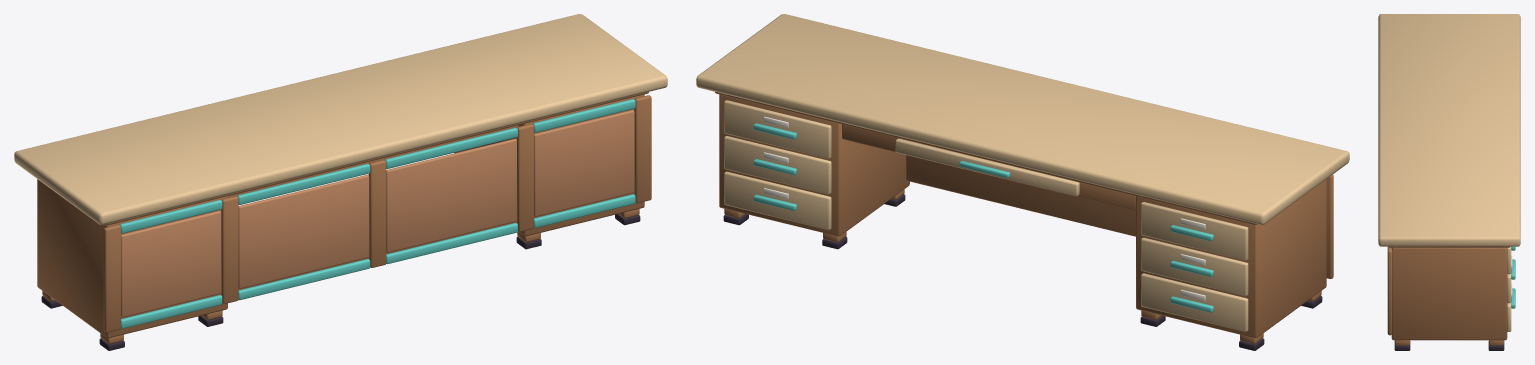
File: teacher-desk.glb
The picture shows the model from 3 angles, left to right: view 1: azimuth 30°, elevation 25°; view 2: azimuth 150°, elevation 25°; view 3: azimuth 270°, elevation 25°; orthographic projection. The views are drawn at different scales.
Visible parts, largest first — view 1: FurnTeacherDesk_TopDrawers, FurnTeacherDesk_FrontPanels, FurnTeacherDesk_Frame, FurnTeacherDesk_TurquoiseTrim, FurnTeacherDesk_Glides; view 2: FurnTeacherDesk_TopDrawers, FurnTeacherDesk_Frame, FurnTeacherDesk_TurquoiseTrim, FurnTeacherDesk_Glides, FurnTeacherDesk_Labels; view 3: FurnTeacherDesk_TopDrawers, FurnTeacherDesk_Frame, FurnTeacherDesk_Glides, FurnTeacherDesk_TurquoiseTrim.
Part boxes in pixels (x1,y1,x2,y2): FurnTeacherDesk_TopDrawers: [14, 14, 667, 224]; FurnTeacherDesk_FrontPanels: [121, 110, 634, 317]; FurnTeacherDesk_Frame: [37, 92, 651, 343]; FurnTeacherDesk_TurquoiseTrim: [119, 99, 635, 328]; FurnTeacherDesk_Glides: [41, 214, 640, 350]; FurnTeacherDesk_TopDrawers: [696, 14, 1349, 331]; FurnTeacherDesk_Frame: [715, 92, 1333, 343]; FurnTeacherDesk_TurquoiseTrim: [753, 123, 1213, 312]; FurnTeacherDesk_Glides: [723, 194, 1322, 350]; FurnTeacherDesk_Labels: [763, 116, 1205, 301]; FurnTeacherDesk_TopDrawers: [1378, 14, 1520, 331]; FurnTeacherDesk_Frame: [1387, 246, 1509, 345]; FurnTeacherDesk_Glides: [1394, 341, 1504, 350]; FurnTeacherDesk_TurquoiseTrim: [1511, 246, 1515, 308].
Size of the model in its own units: 3 by 0.7499 by 0.8.
